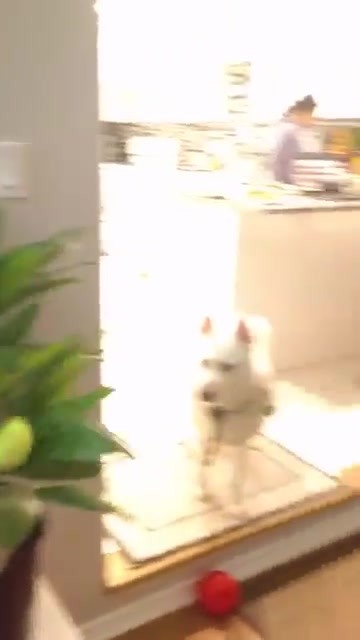tennis_ball: (1, 409, 36, 474)
